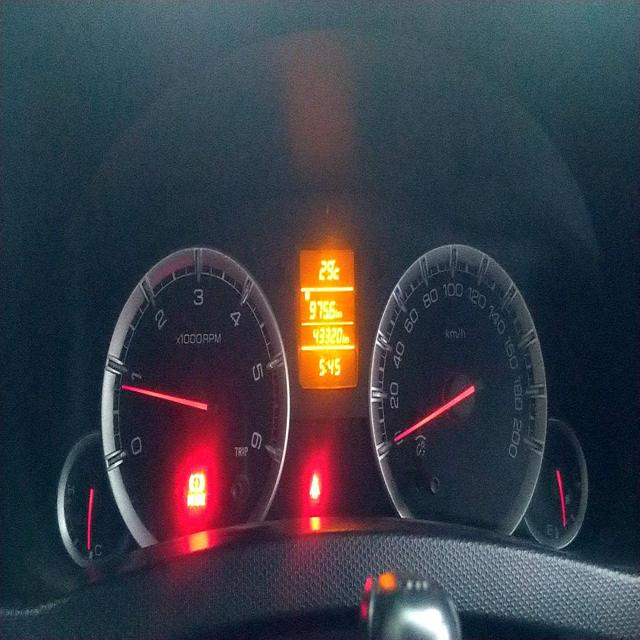odometer: (310, 324, 345, 347)
